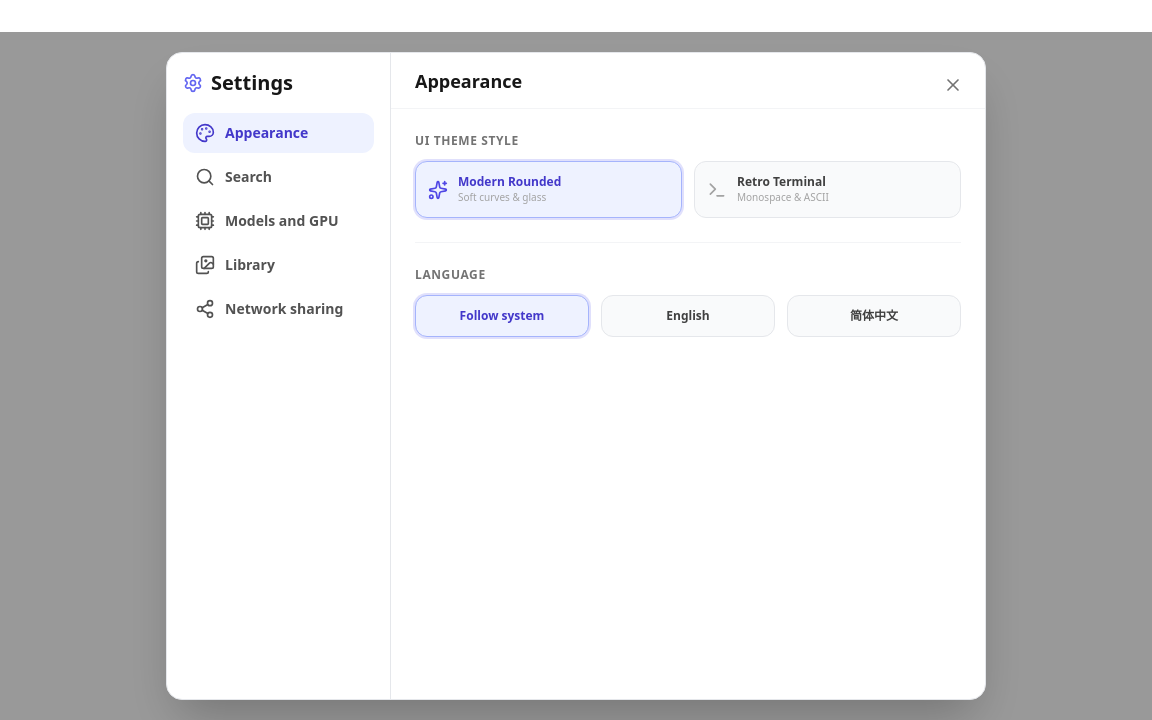
SettingsModal › groups › renders only the sections of the selected group
Expected: the heading "UI Theme Style" is shown, [415,132,519,149]
Expected: the text "Model Management" is not shown
Click the tab "Models and GPU". click: (278, 221)
box: [183,201,374,241]
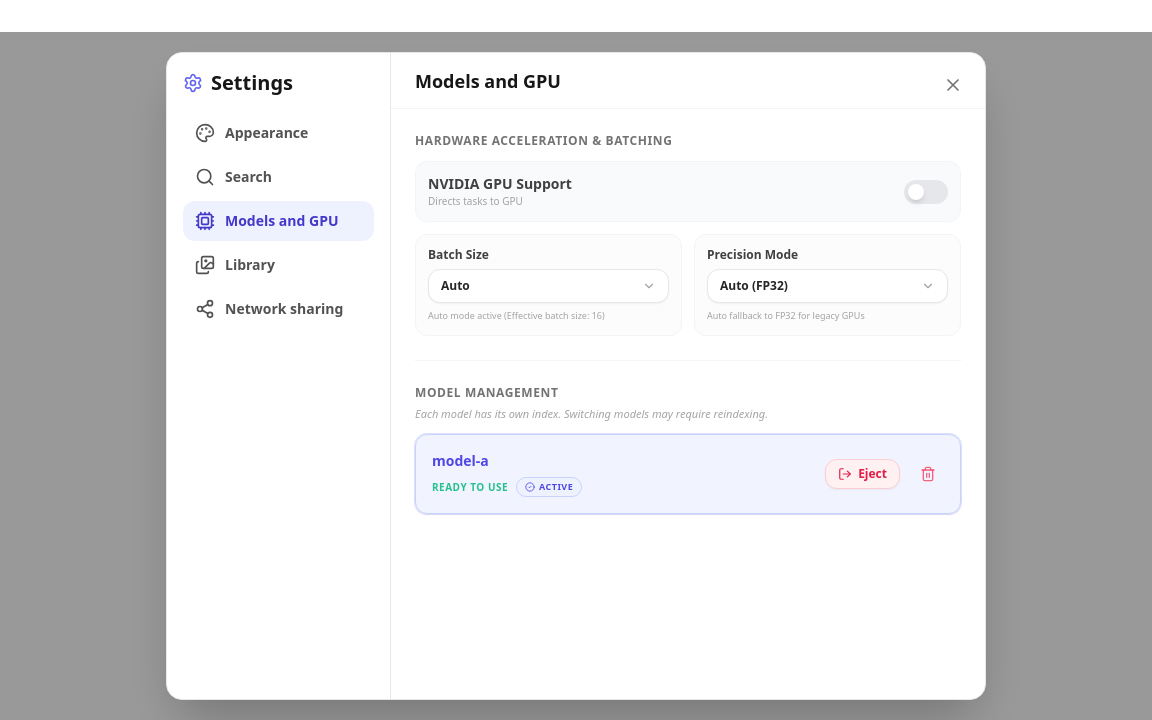
Expected: the heading "Models and GPU" is shown, [415,66,561,94]
Expected: the heading "Model Management" is shown, [415,384,558,400]
Expected: the heading "UI Theme Style" is gone
